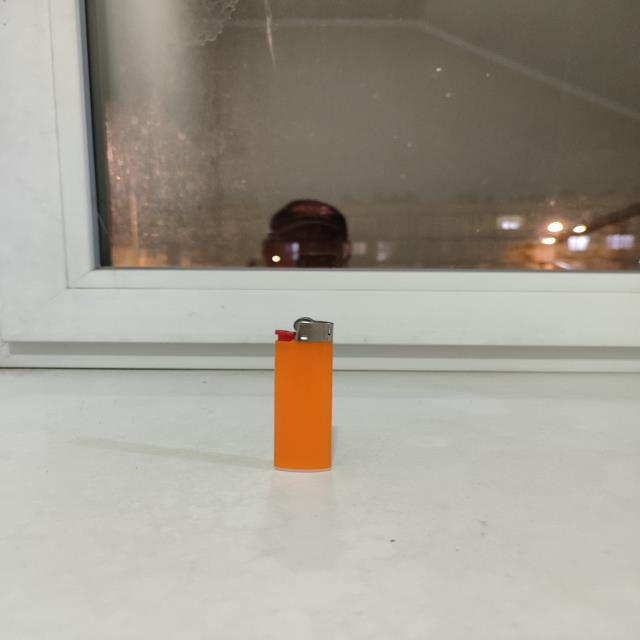lighter: (274, 318, 332, 470)
